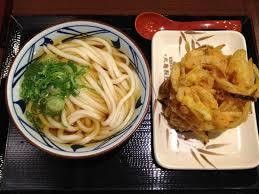bukkake: (12, 23, 145, 153)
kakiage: (162, 44, 259, 137)
